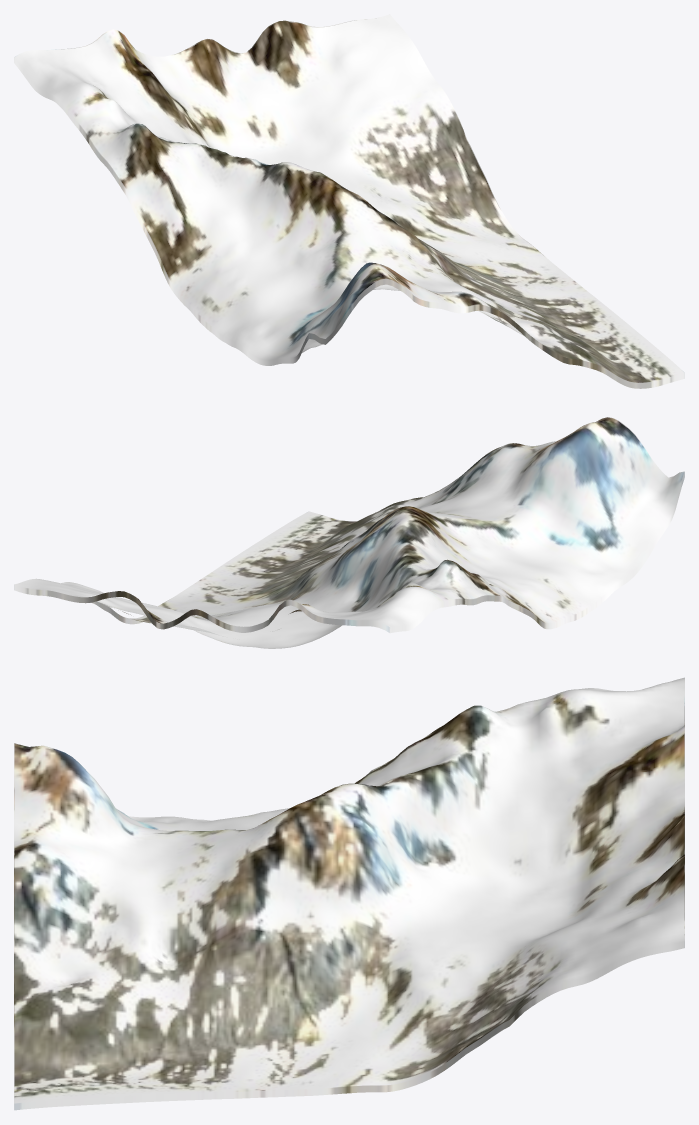
The picture shows the model from 3 angles, top to bottom: view 1: azimuth 30°, elevation 25°; view 2: azimuth 150°, elevation 25°; view 3: azimuth 270°, elevation 25°; orthographic projection. The views are drawn at different scales.
Visible parts, largest first — view 1: tile; view 2: tile; view 3: tile.
Boxes of the visible parts, bbox=[...] form: tile: bbox=[14, 14, 684, 388]; tile: bbox=[14, 417, 684, 648]; tile: bbox=[14, 677, 684, 1110].
Size of the model in its own units: 2025 by 1041 by 2752.
1 material, 1 textured.
